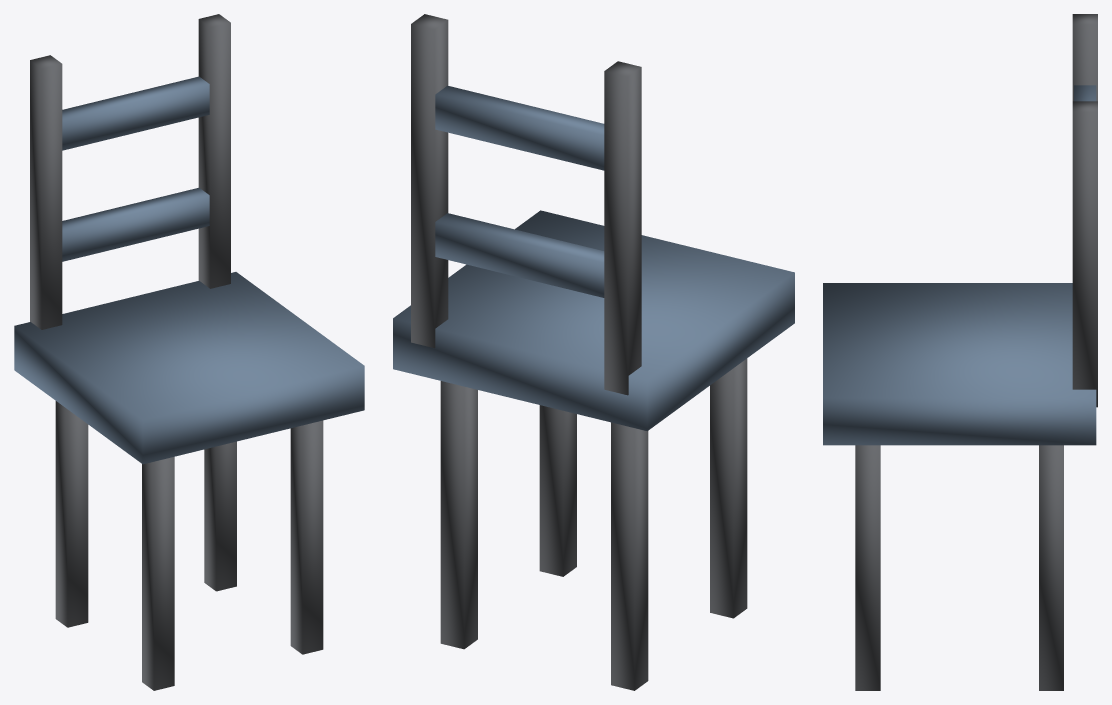
Rendered from armchair__tall.glb.
3 views of the same model, side by side, from view 1: azimuth 30°, elevation 25°; view 2: azimuth 150°, elevation 25°; view 3: azimuth 270°, elevation 25° (orthographic). The views are drawn at different scales.
Parts seen in each view (by area): view 1: world; view 2: world; view 3: world.
Boxes of the visible parts, x1=… form: world: x1=14, y1=14, x2=364, y2=690; world: x1=393, y1=14, x2=794, y2=690; world: x1=823, y1=14, x2=1097, y2=690.
Bounding box in the file's own units: 0.4846 × 1.15 × 0.4891.
